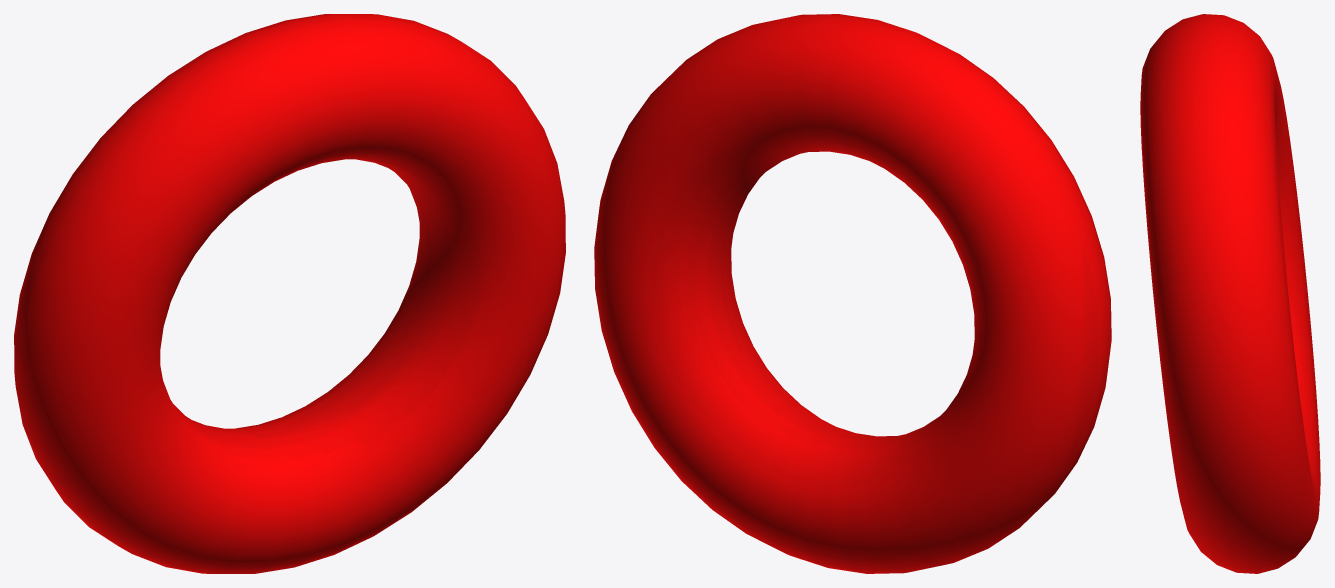
File: PaintTorus.fbx
3 renders of one model, left to right at view 1: azimuth 30°, elevation 25°; view 2: azimuth 150°, elevation 25°; view 3: azimuth 270°, elevation 25°, orthographic. The views are drawn at different scales.
Visible parts, largest first — view 1: node_id41; view 2: node_id41; view 3: node_id41.
Part boxes in pixels (box(x1,y1,x2,y2)): node_id41: box(14, 14, 565, 573); node_id41: box(594, 14, 1111, 573); node_id41: box(1140, 14, 1320, 573).
Bounding box in the file's own units: 0.512 × 0.509 × 0.164.
Materials: 1 (1 with a texture image).
